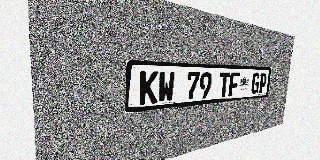7: (185, 71, 200, 100)
9: (198, 72, 212, 99)
F: (228, 72, 240, 96)
G: (251, 73, 260, 94)
K: (139, 71, 158, 105)
P: (258, 73, 267, 93)
T: (218, 72, 230, 97)
W: (158, 71, 175, 103)
